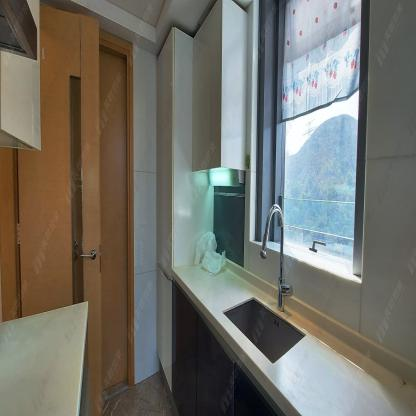Cupboard: (155, 29, 214, 392), (191, 0, 249, 170)
Faucet: (261, 197, 294, 311)
Sink: (202, 281, 329, 396)
